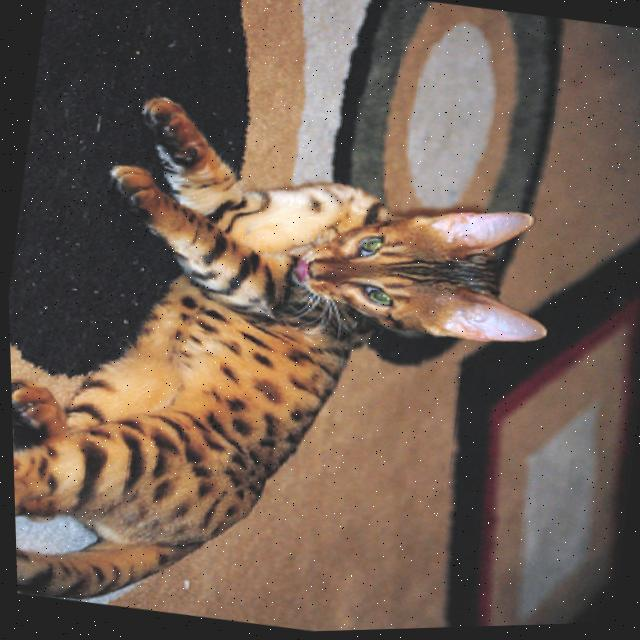Bengal: (2, 64, 594, 640)
